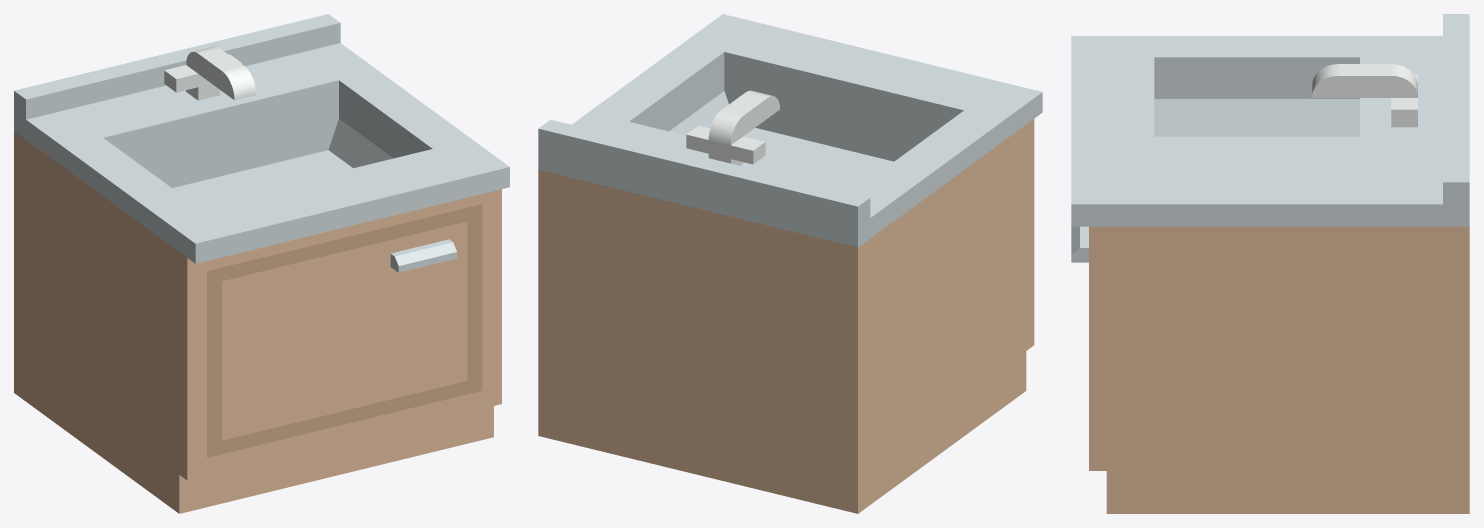
Rendered from kn-kitchen-sink.glb.
3 renders of one model, left to right at view 1: azimuth 30°, elevation 25°; view 2: azimuth 150°, elevation 25°; view 3: azimuth 270°, elevation 25°, orthographic. The views are drawn at different scales.
Parts seen in each view (by area): view 1: kitchenSink(Clone), door; view 2: kitchenSink(Clone); view 3: kitchenSink(Clone).
Boxes of the visible parts, x1,y1,x2,y2 form: kitchenSink(Clone): [14, 14, 509, 513]; door: [207, 204, 482, 457]; kitchenSink(Clone): [538, 14, 1042, 513]; kitchenSink(Clone): [1071, 14, 1469, 513].
Bounding box in the file's own units: 1 × 1 × 1.
